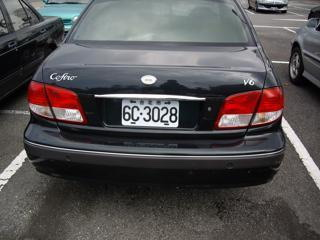plate: (122, 97, 180, 129)
